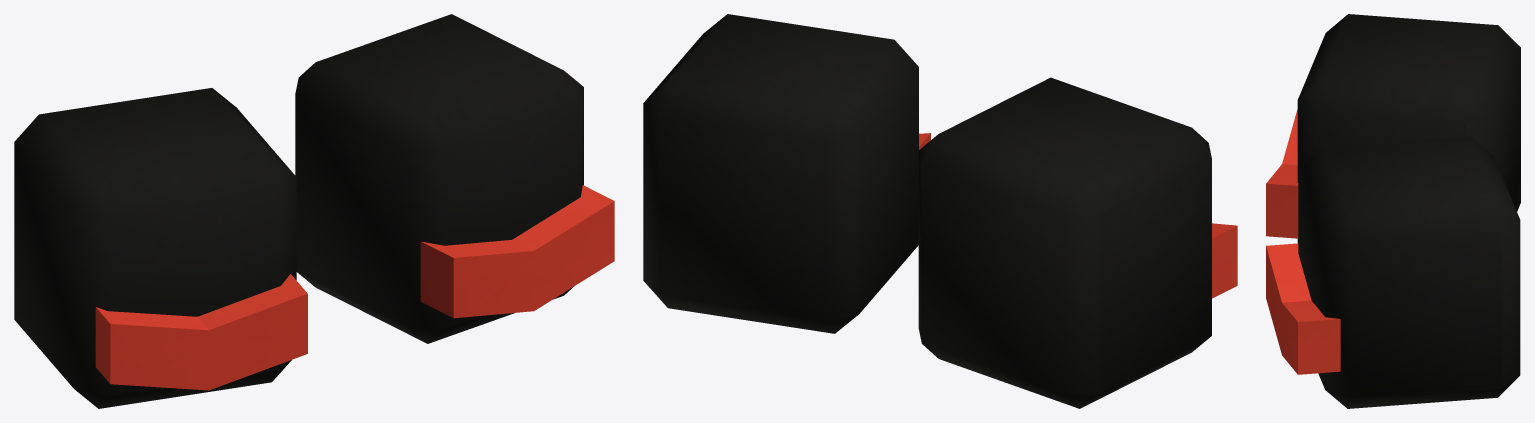
File: eyes_skeleton_sleeping.fbx
The picture shows the model from 3 angles, left to right: view 1: azimuth 30°, elevation 25°; view 2: azimuth 150°, elevation 25°; view 3: azimuth 270°, elevation 25°; orthographic projection. The views are drawn at different scales.
Visible parts, largest first — view 1: eyes_skeleton_sleeping; view 2: eyes_skeleton_sleeping; view 3: eyes_skeleton_sleeping.
Boxes of the visible parts, x1,y1,x2,y2 form: eyes_skeleton_sleeping: [14, 14, 614, 408]; eyes_skeleton_sleeping: [643, 14, 1237, 408]; eyes_skeleton_sleeping: [1266, 14, 1520, 408].
Bounding box in the file's own units: 39.14 × 16.53 × 19.4.
